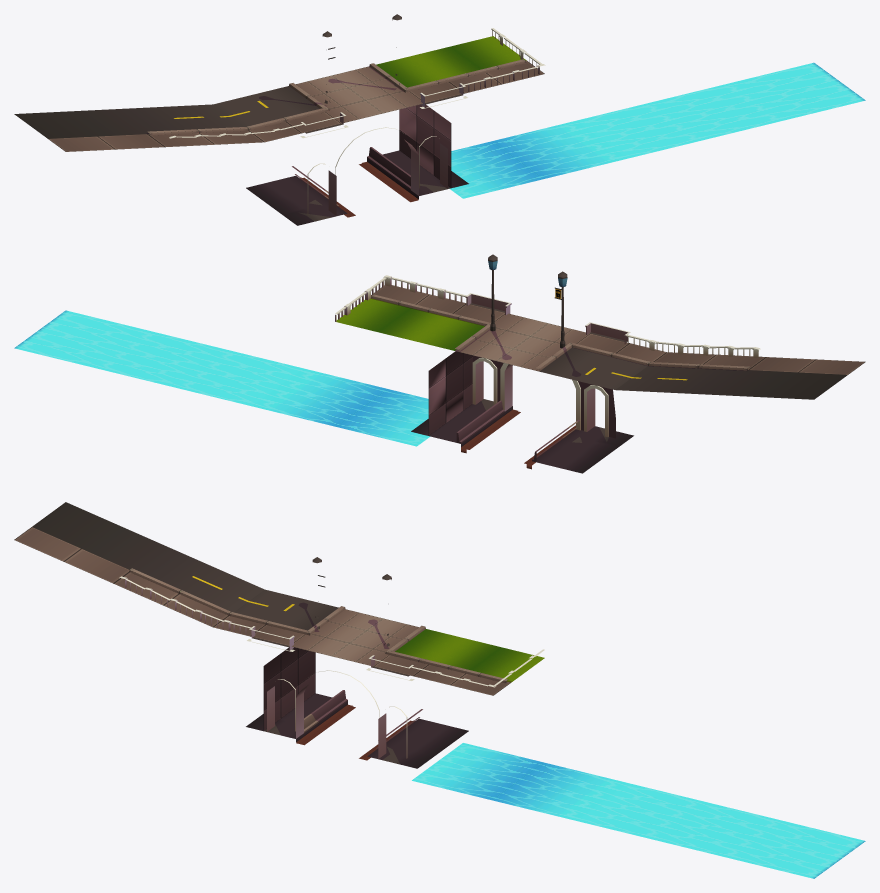
The model's file is 1.100_SanFrancisco_pillars_end.glb.
3 views of the same model, one above another, from view 1: azimuth 30°, elevation 25°; view 2: azimuth 150°, elevation 25°; view 3: azimuth 330°, elevation 25° (orthographic).
Parts seen in each view (by area): view 1: 1.100_SanFrancisco_pillars_end; view 2: 1.100_SanFrancisco_pillars_end; view 3: 1.100_SanFrancisco_pillars_end.
Part boxes in pixels (box(x1,y1,x2,y2)): 1.100_SanFrancisco_pillars_end: box(14, 14, 865, 225); 1.100_SanFrancisco_pillars_end: box(14, 254, 865, 473); 1.100_SanFrancisco_pillars_end: box(14, 502, 865, 878).
Bounding box in the file's own units: 803 × 173 × 93.95.
3 materials, 3 textured.
